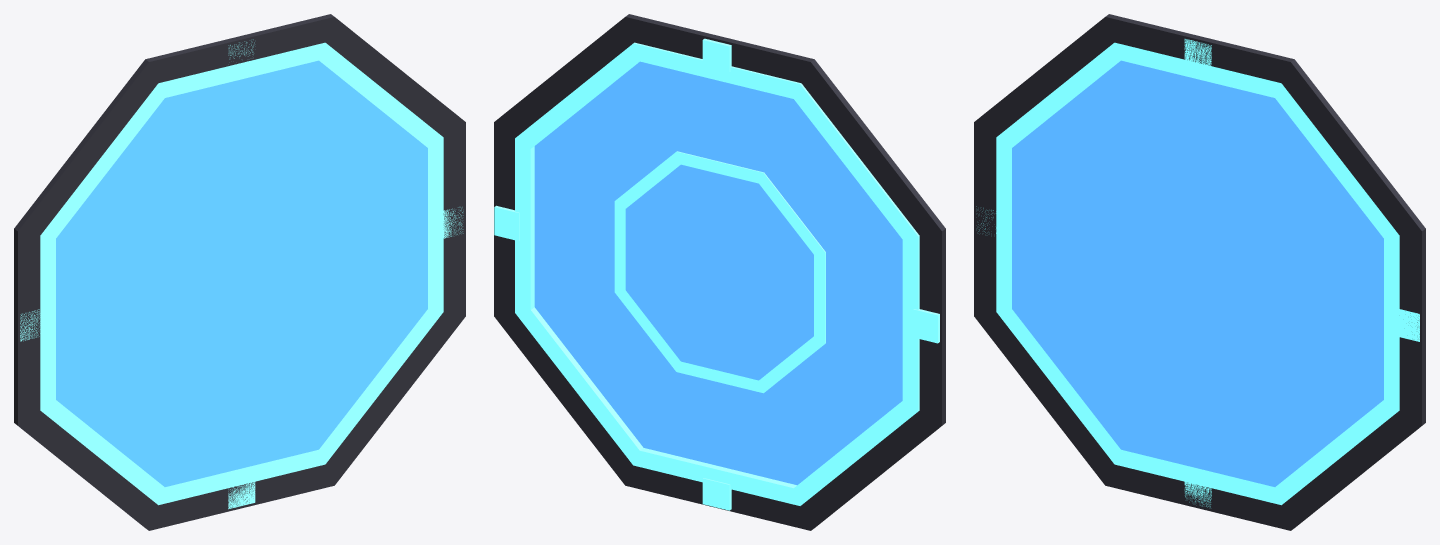
File: portal_a.glb
The picture shows the model from 3 angles, left to right: view 1: azimuth 30°, elevation 25°; view 2: azimuth 150°, elevation 25°; view 3: azimuth 330°, elevation 25°; orthographic projection.
Visible parts, largest first — view 1: portal_a; view 2: portal_a; view 3: portal_a.
Boxes of the visible parts, x1,y1,x2,y2 form: portal_a: [14, 14, 465, 530]; portal_a: [494, 14, 945, 530]; portal_a: [974, 14, 1425, 530].
Size of the model in its own units: 2 by 2 by 0.045.
